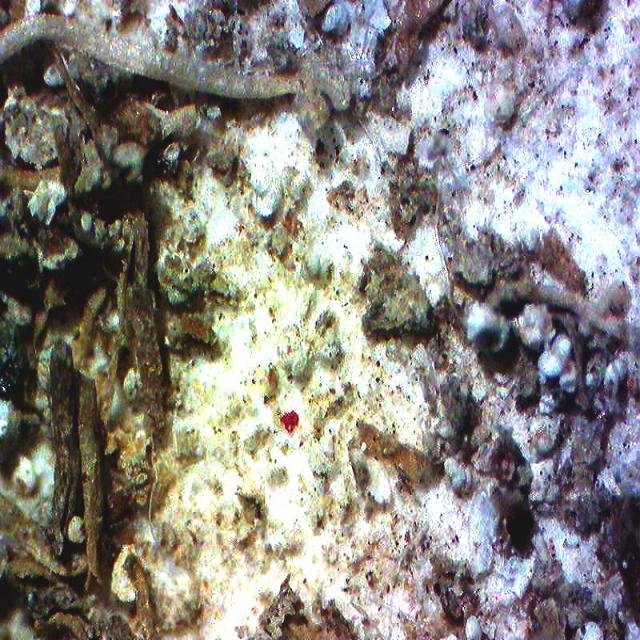microplastic: (281, 410, 299, 435)
